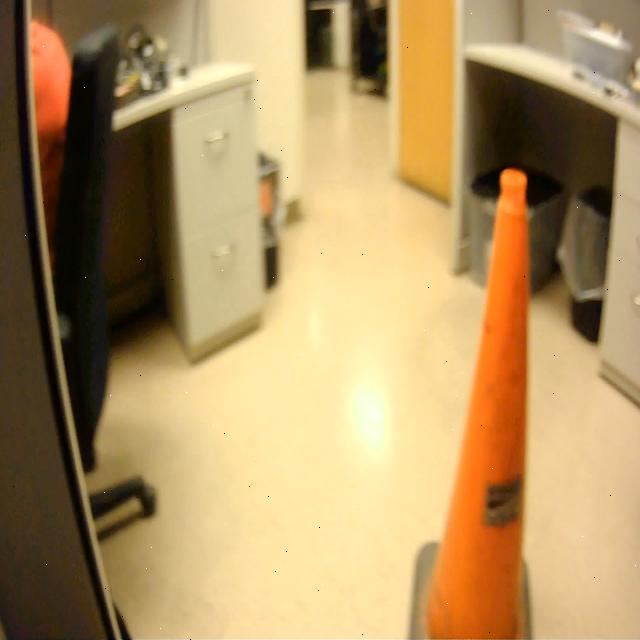traffic cone: (402, 161, 541, 640)
